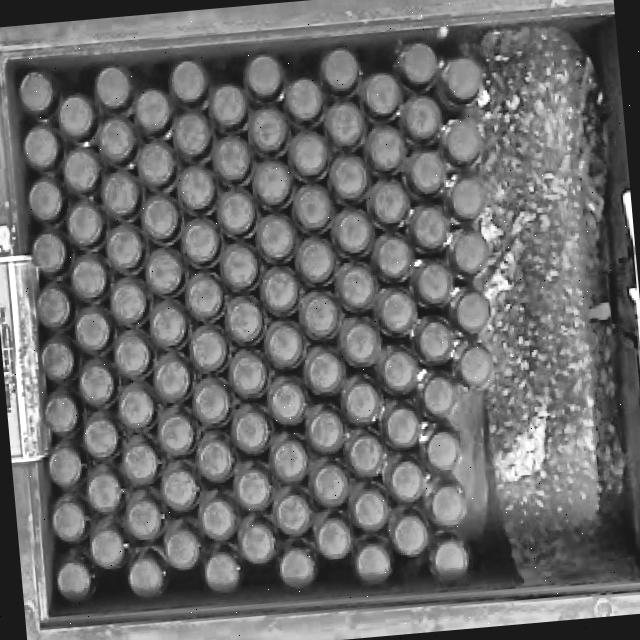vial: (442, 120, 481, 165), (321, 48, 359, 93), (245, 54, 282, 100), (444, 56, 481, 102), (86, 469, 123, 514), (285, 78, 322, 122), (290, 133, 327, 177), (364, 73, 401, 117), (399, 42, 436, 86), (404, 97, 441, 141), (448, 177, 485, 221), (139, 142, 175, 187), (254, 161, 290, 206), (295, 186, 331, 231), (298, 239, 334, 284), (379, 290, 416, 333), (408, 152, 445, 195), (63, 149, 99, 193), (219, 191, 255, 235), (258, 216, 294, 260), (326, 103, 362, 147), (331, 156, 367, 200), (376, 236, 412, 280), (411, 206, 447, 250), (416, 262, 452, 306), (452, 231, 488, 275), (250, 108, 285, 153), (43, 392, 79, 435), (154, 358, 190, 401), (171, 60, 207, 103), (174, 113, 210, 156), (302, 294, 338, 337), (335, 210, 371, 253), (343, 322, 379, 365), (372, 181, 408, 224), (454, 290, 490, 333), (197, 438, 233, 481), (430, 483, 466, 526), (24, 125, 59, 169), (28, 178, 63, 222), (119, 385, 154, 429), (267, 323, 302, 367), (270, 381, 305, 425), (417, 319, 452, 363), (165, 526, 200, 570), (234, 409, 269, 453), (58, 94, 92, 139), (136, 89, 170, 134), (263, 268, 297, 313), (90, 525, 124, 570), (279, 546, 316, 587), (339, 267, 375, 309), (128, 555, 164, 597), (96, 65, 131, 108), (72, 256, 107, 299), (79, 362, 114, 405), (99, 118, 134, 161), (103, 173, 138, 216), (106, 226, 141, 269), (111, 280, 146, 323), (115, 333, 150, 376), (147, 251, 182, 294), (151, 304, 186, 347), (183, 221, 218, 264), (188, 275, 223, 318), (191, 328, 226, 371), (195, 381, 230, 424), (211, 84, 246, 127), (223, 245, 258, 288), (228, 299, 263, 342), (231, 352, 266, 395), (368, 128, 403, 171), (127, 497, 162, 540), (159, 413, 194, 456), (240, 521, 275, 564), (275, 492, 310, 535), (313, 463, 348, 506), (348, 433, 383, 476), (353, 487, 388, 530), (215, 138, 249, 182), (31, 233, 67, 274), (56, 559, 92, 600), (204, 551, 240, 592), (355, 542, 391, 583), (67, 204, 102, 246), (143, 198, 178, 240), (179, 168, 214, 210), (458, 345, 493, 387), (83, 416, 118, 458), (123, 442, 158, 484), (162, 468, 197, 510), (36, 285, 70, 328), (76, 309, 110, 352), (307, 350, 341, 393), (345, 380, 379, 423), (51, 499, 85, 542), (201, 497, 235, 540), (236, 467, 270, 510), (273, 438, 307, 481), (316, 516, 350, 559), (385, 405, 419, 448), (393, 513, 427, 556), (433, 538, 469, 578), (40, 339, 74, 381), (422, 374, 456, 416), (48, 444, 81, 487), (309, 409, 342, 452), (390, 460, 423, 502), (426, 429, 459, 471), (383, 349, 415, 392)
